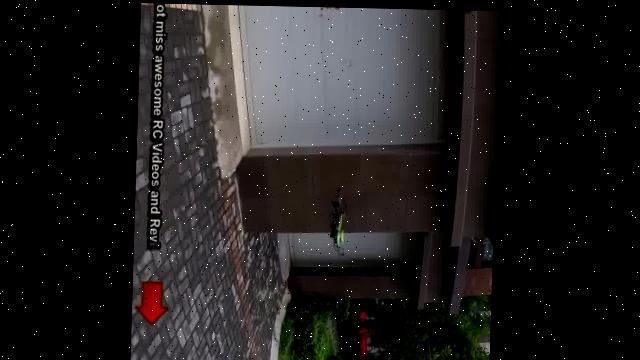drone: (327, 185, 357, 257)
